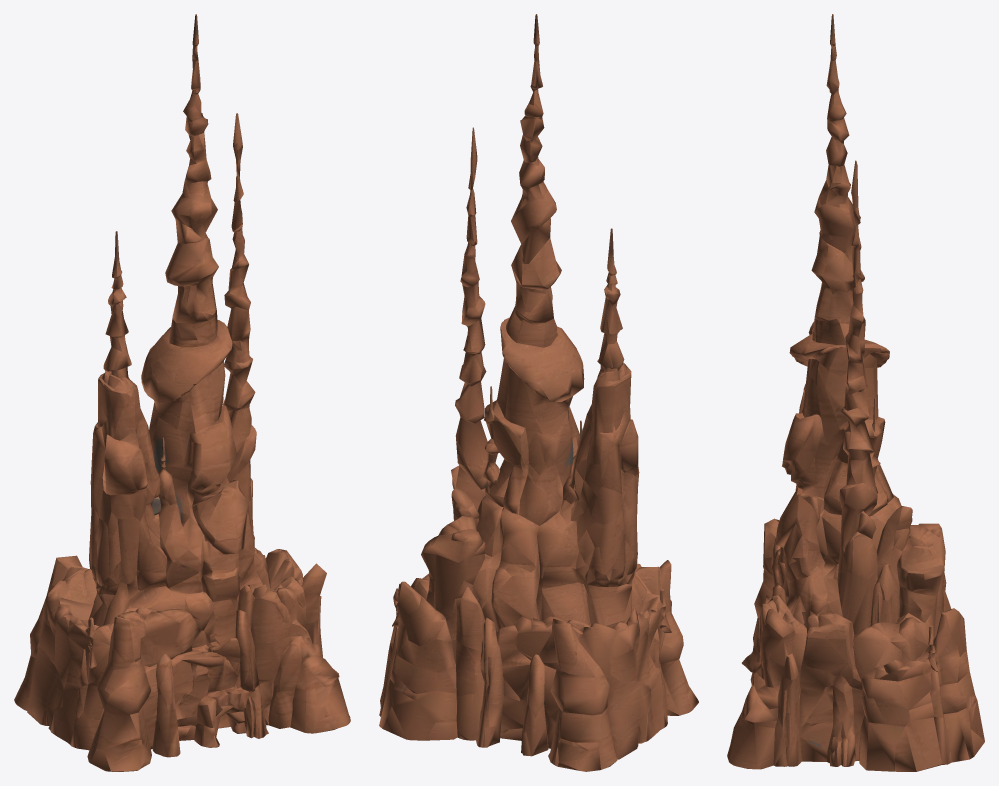
The model's file is foundry.lod1.glb.
3 renders of one model, left to right at view 1: azimuth 30°, elevation 25°; view 2: azimuth 150°, elevation 25°; view 3: azimuth 270°, elevation 25°, orthographic. The views are drawn at different scales.
Parts seen in each view (by area): view 1: foundry-centred; view 2: foundry-centred; view 3: foundry-centred.
Part boxes in pixels (box(x1,y1,x2,y2)): foundry-centred: box(14, 14, 350, 771); foundry-centred: box(379, 14, 698, 771); foundry-centred: box(727, 14, 984, 771).
Bounding box in the file's own units: 37.39 × 100 × 33.34.
Materials: 1 (1 with a texture image).
